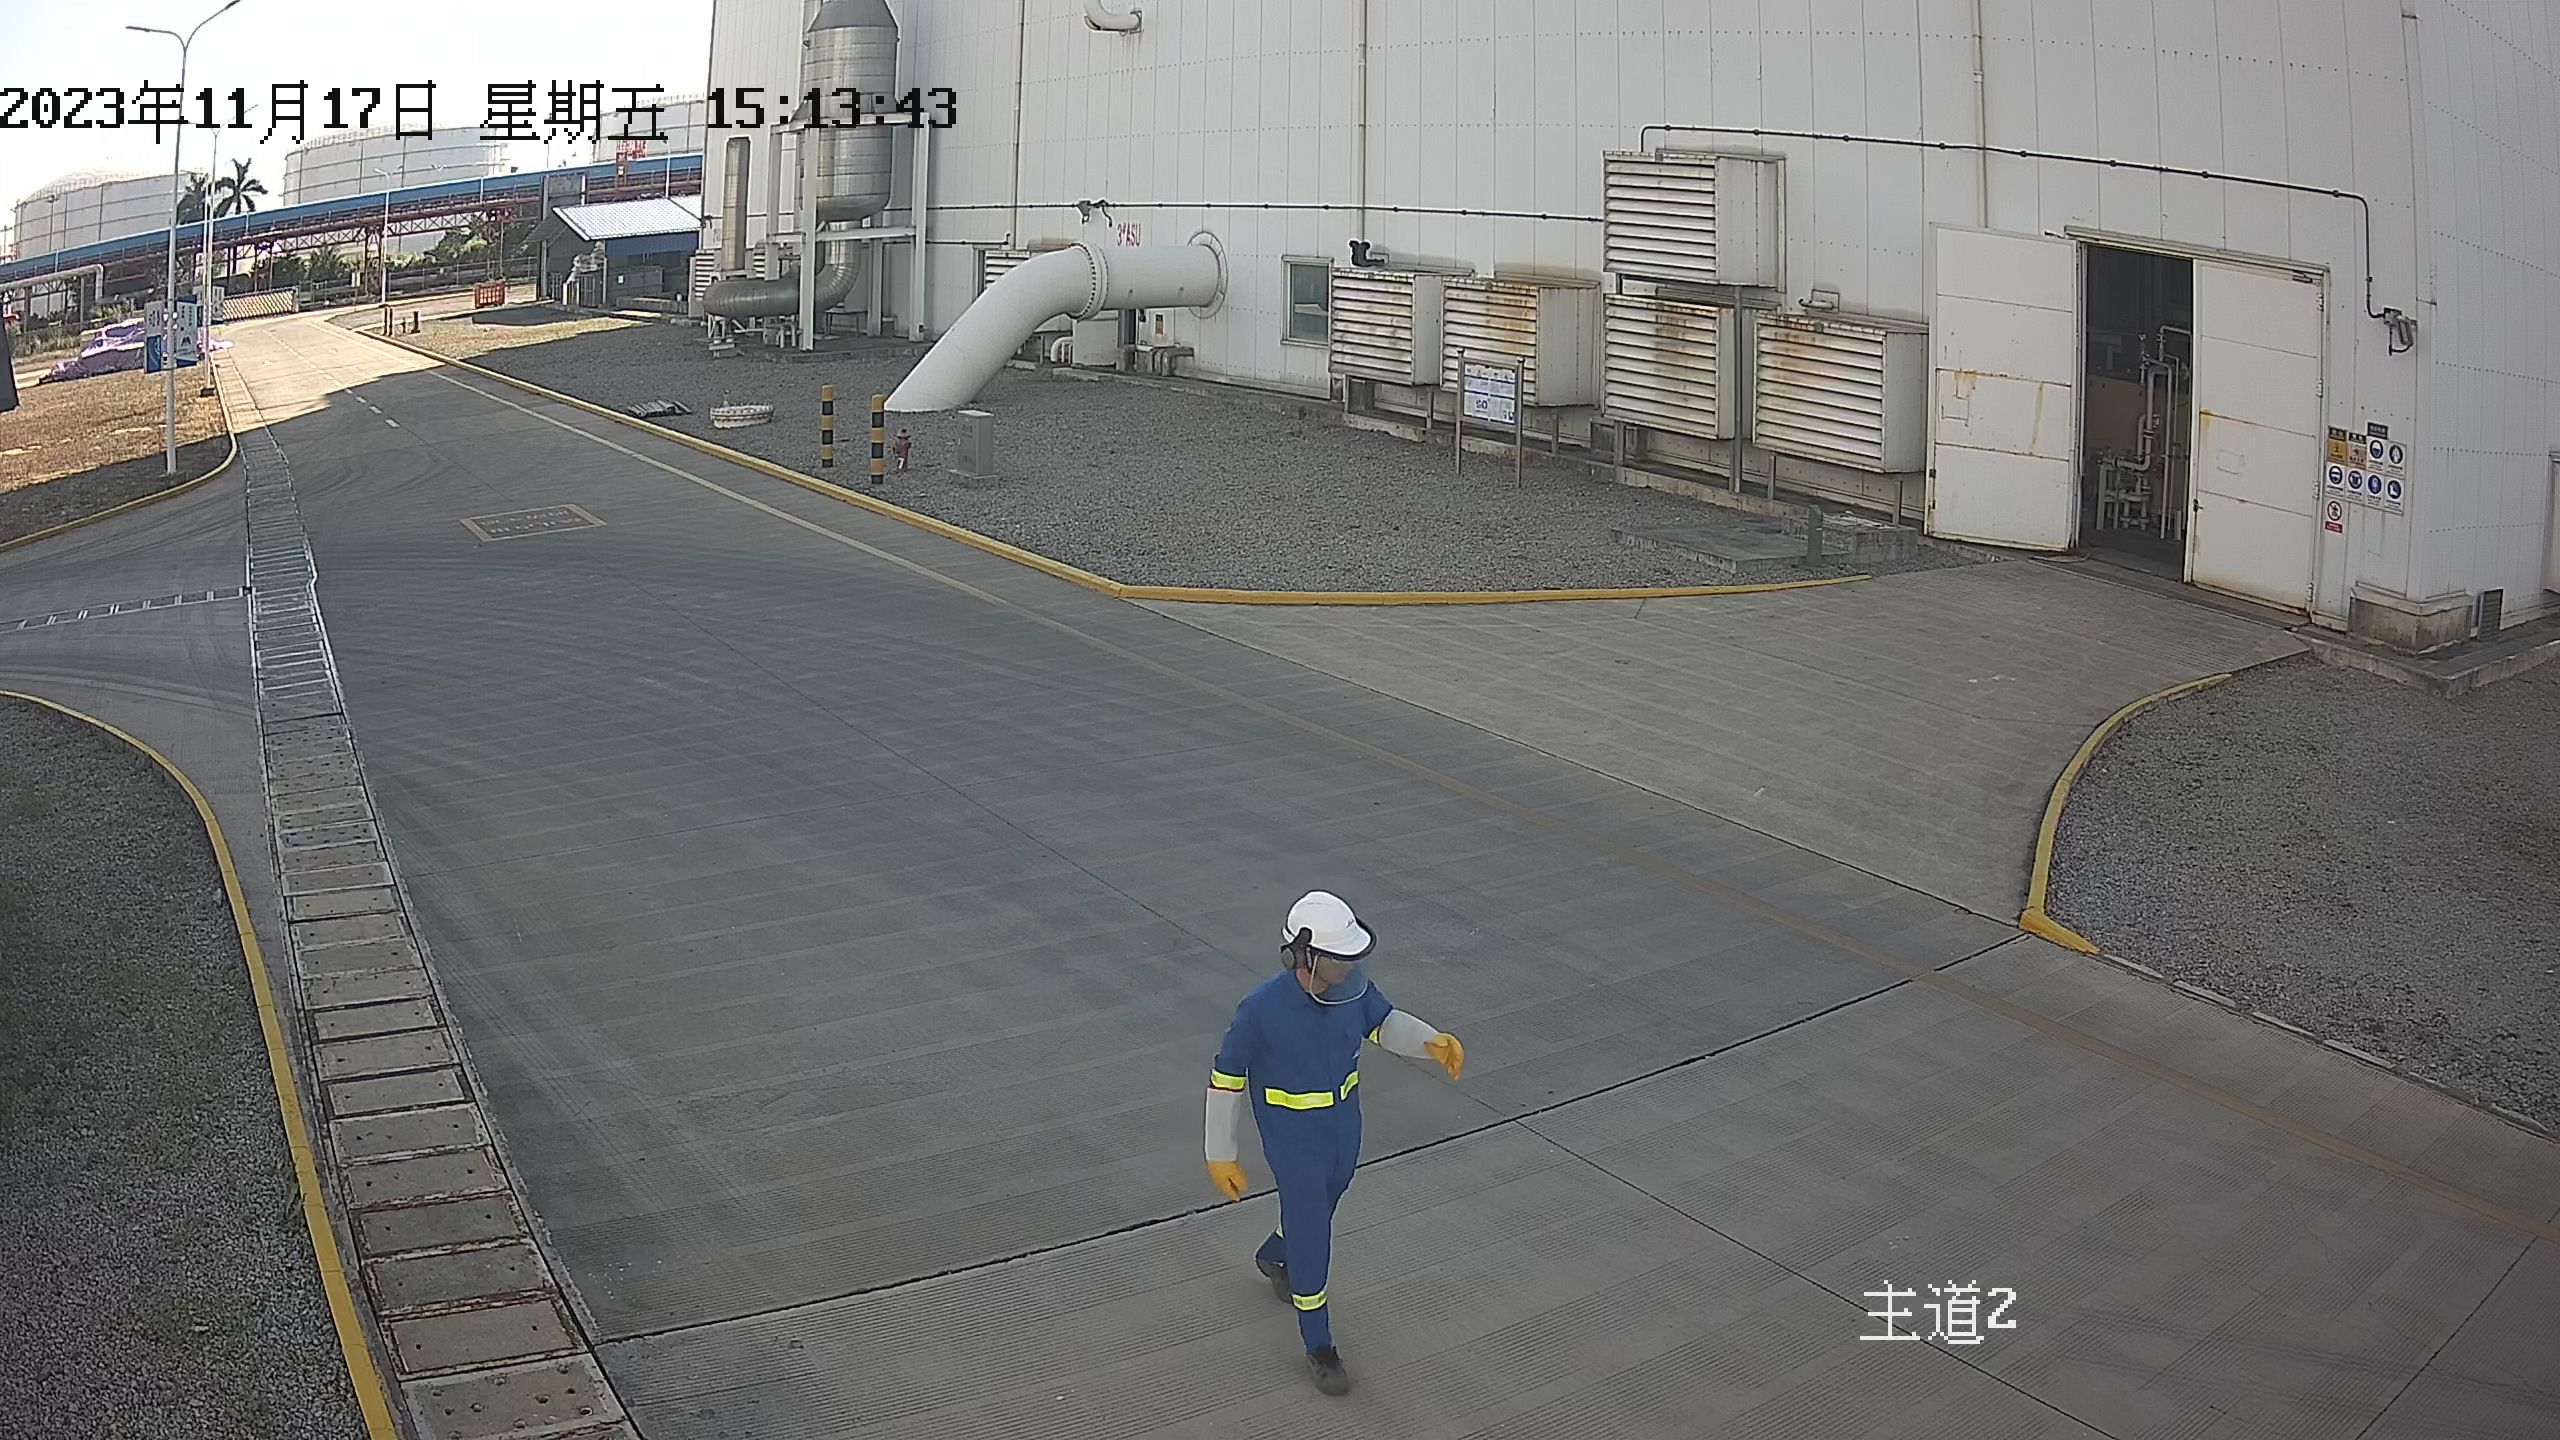Head_with_Helmet: (1227, 866, 1422, 997)
Uniform: (1133, 962, 1490, 1418)
